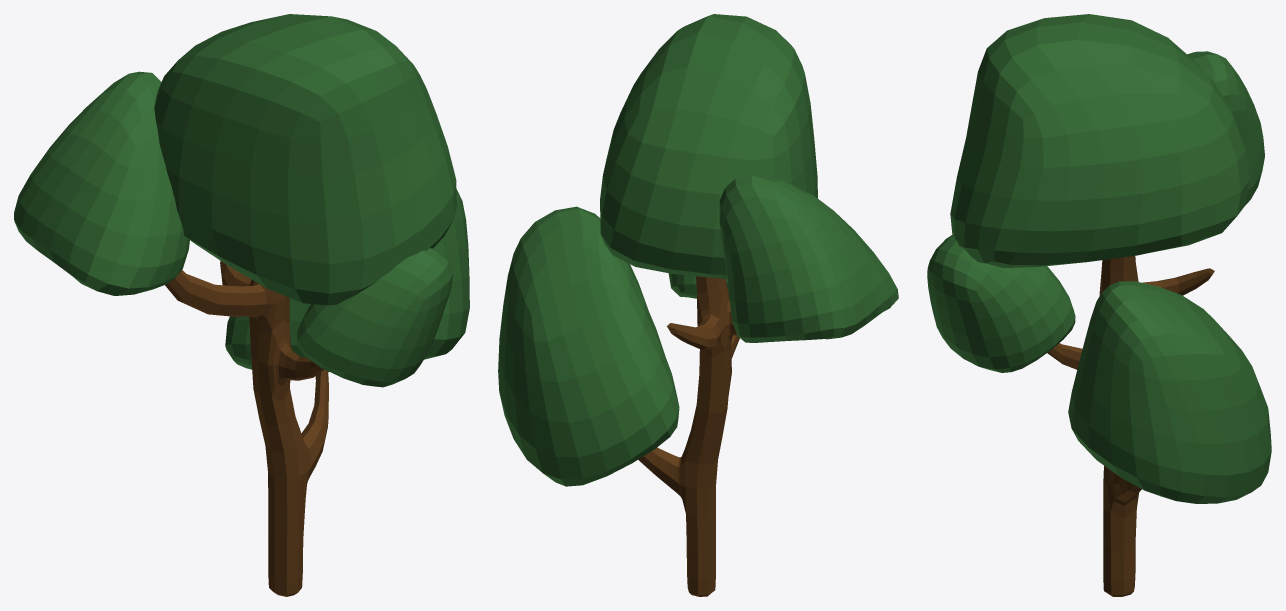
File: Tree Type 1.fbx
3 renders of one model, left to right at view 1: azimuth 30°, elevation 25°; view 2: azimuth 150°, elevation 25°; view 3: azimuth 270°, elevation 25°, orthographic. The views are drawn at different scales.
Visible parts, largest first — view 1: Cube.065; view 2: Cube.065; view 3: Cube.065.
Part boxes in pixels (x1=…): Cube.065: x1=14, y1=14, x2=469, y2=596; Cube.065: x1=498, y1=14, x2=898, y2=596; Cube.065: x1=927, y1=14, x2=1271, y2=596.
Bounding box in the file's own units: 890 × 1217 × 672.
